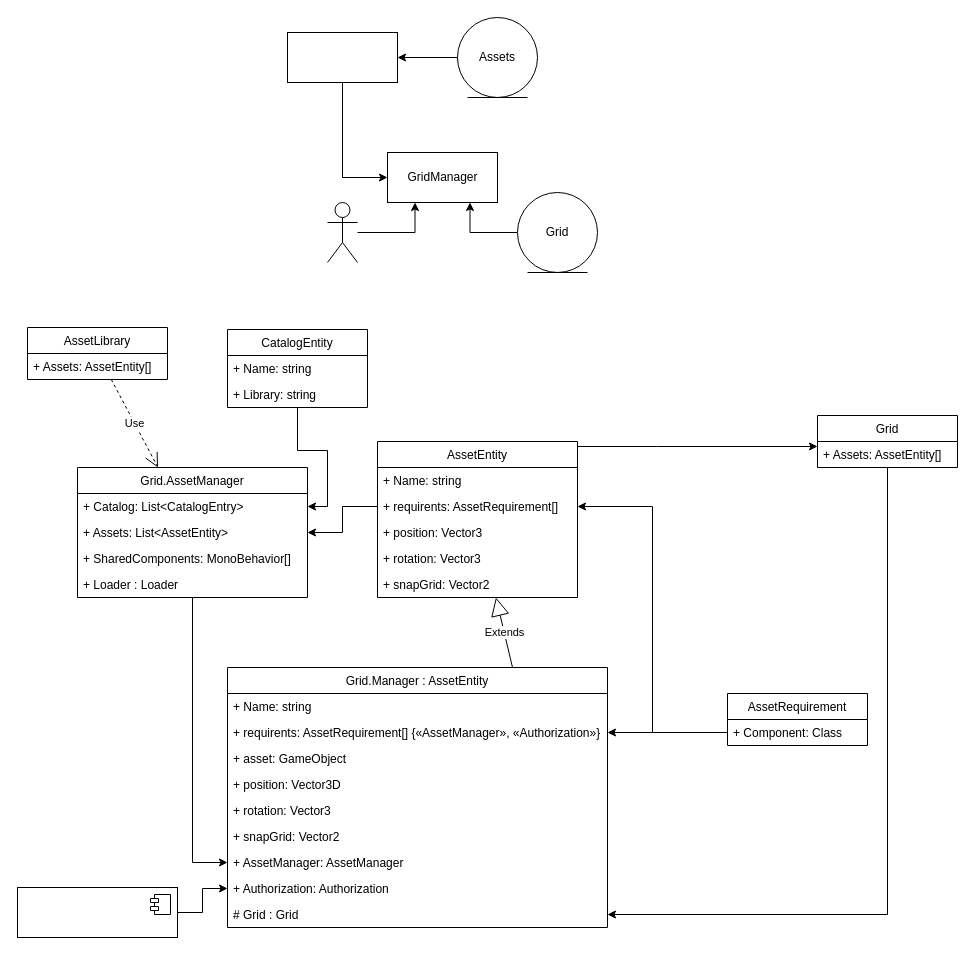
Some shapes in this 975 by 955 pixel diagram are drawn without their labels. Each missing label, with the centre of its shape:
"GridAssetManager" belongs at (342,57).
"PlayerPosition (Plane)" belongs at (342,232).
"«MonoBehavior» Authorization" belongs at (97,912).
